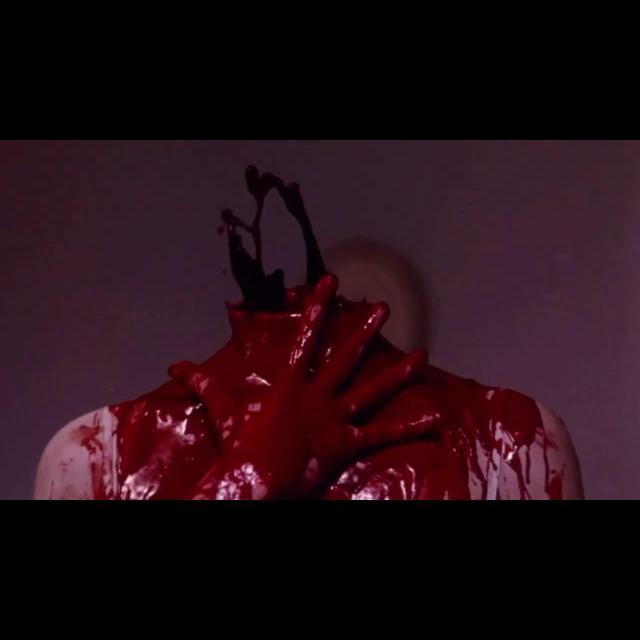blood: (34, 165, 584, 500)
